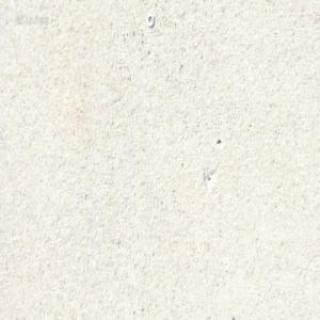Washertrack_idkeyframe: (146, 12, 154, 28)
